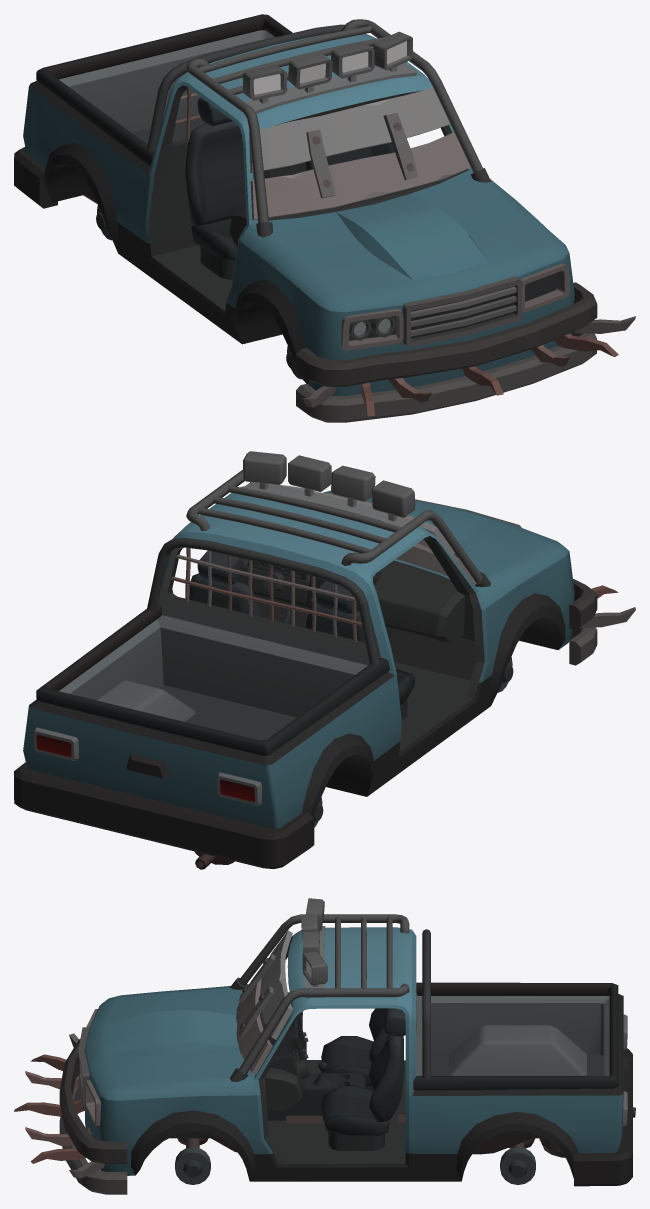
Rendered from Apocalypse_Car.fbx.
3 renders of one model, top to bottom at view 1: azimuth 30°, elevation 25°; view 2: azimuth 150°, elevation 25°; view 3: azimuth 270°, elevation 25°, orthographic. The views are drawn at different scales.
Visible parts, largest first — view 1: Apocalypse_Car; view 2: Apocalypse_Car; view 3: Apocalypse_Car.
Part boxes in pixels (bbox=[...]): Apocalypse_Car: bbox=[14, 14, 635, 422]; Apocalypse_Car: bbox=[14, 451, 635, 869]; Apocalypse_Car: bbox=[14, 898, 635, 1194].
Bounding box in the file's own units: 270 × 510 × 197.
